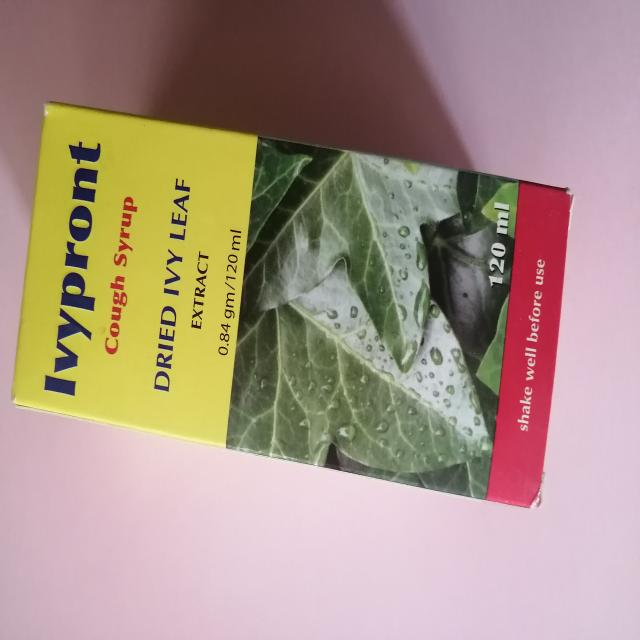medicine_packaging: (8, 74, 594, 527)
